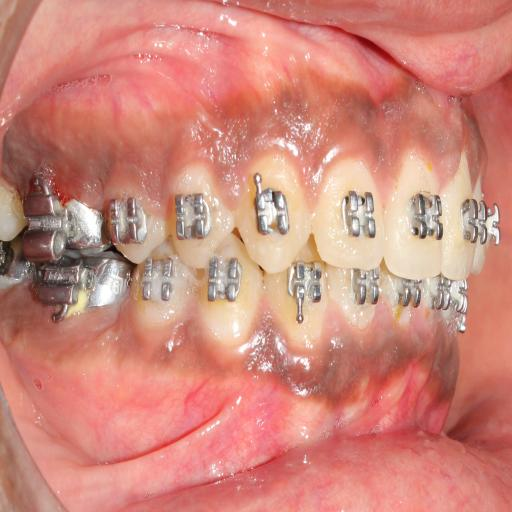correct_brace: (165, 162, 234, 266), (252, 178, 296, 242), (341, 184, 377, 242), (411, 182, 442, 246)
incorrect_brace: (310, 160, 385, 265), (170, 184, 212, 241)
